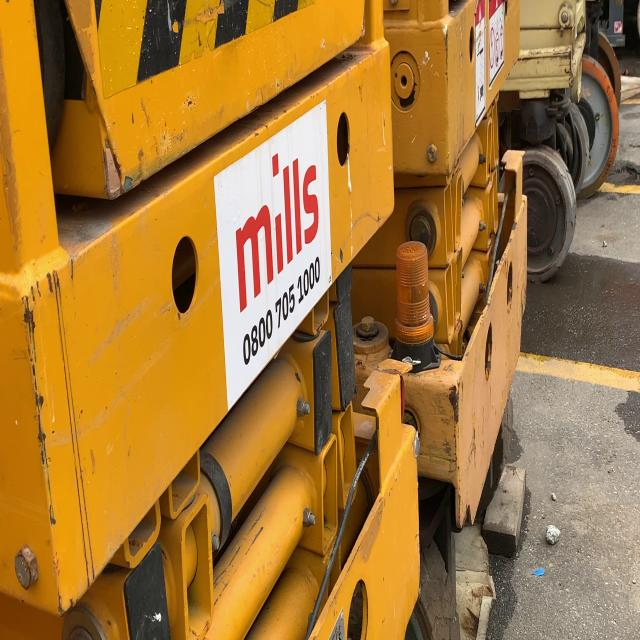Adesivos: (212, 95, 335, 417)
